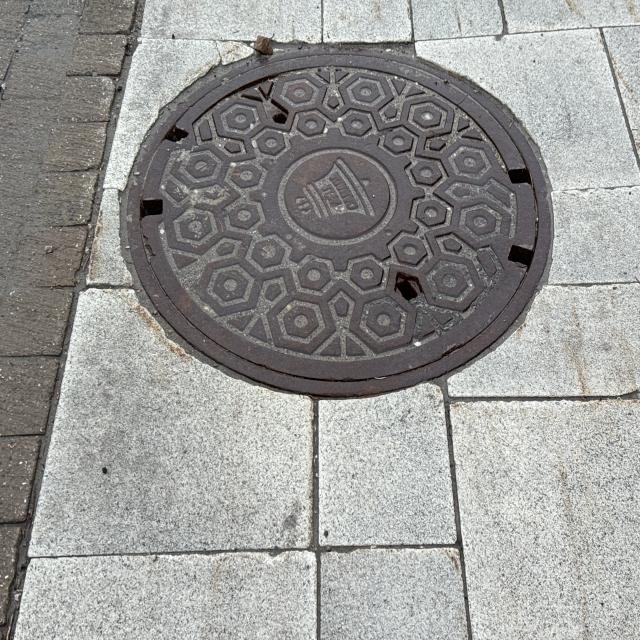Manhole: (125, 45, 558, 398)
